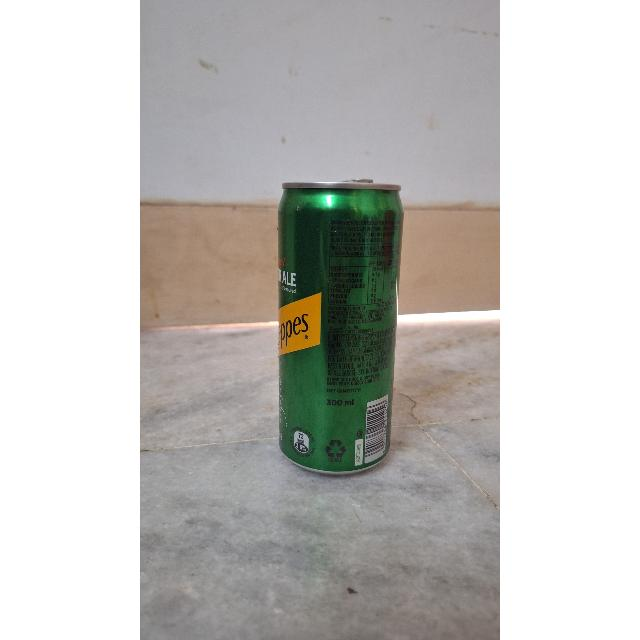Schweppes: (270, 172, 402, 480)
